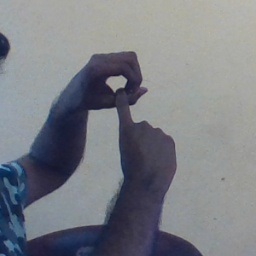Q: (64, 47, 181, 167)
